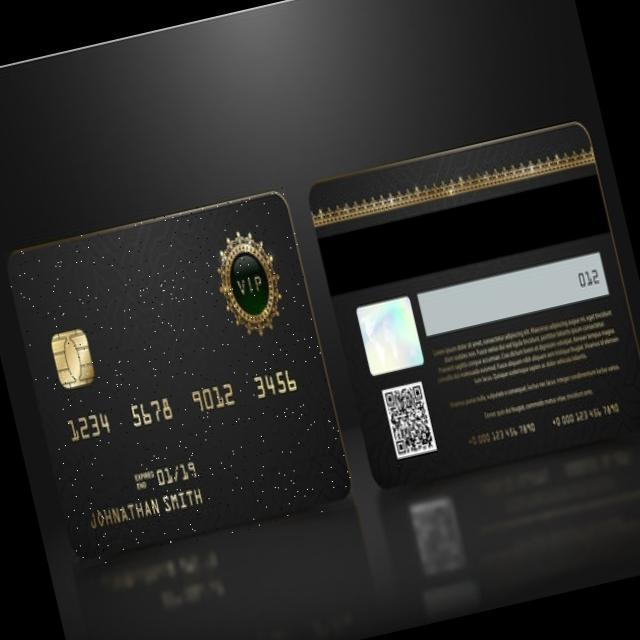payment_card: (5, 189, 352, 566), (308, 120, 640, 490)
